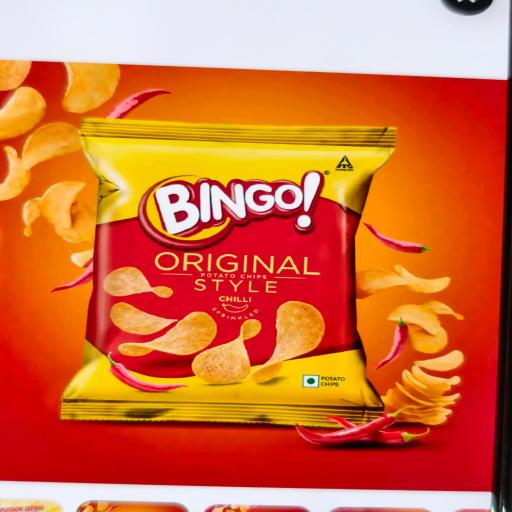green_chips: (61, 117, 396, 427)
